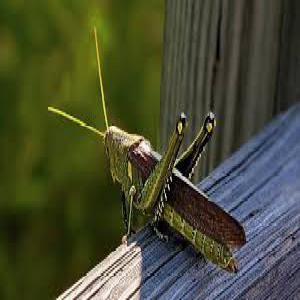locust: (78, 83, 244, 280)
